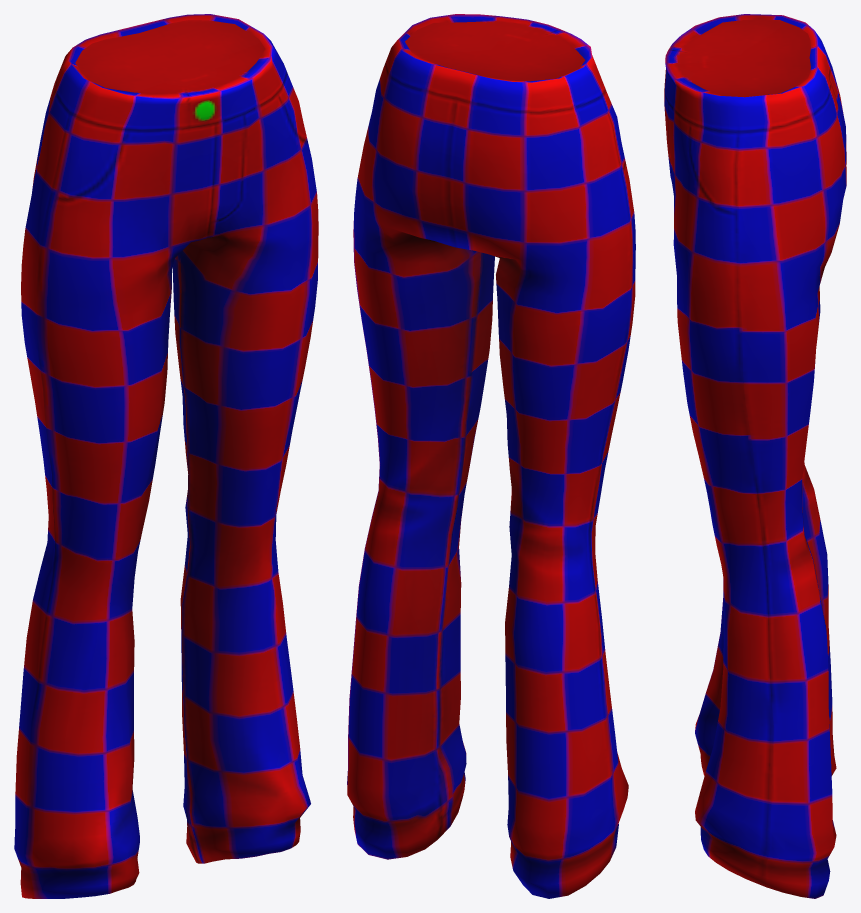
File: Bottom_CheckeredPants.obj
The picture shows the model from 3 angles, left to right: view 1: azimuth 30°, elevation 25°; view 2: azimuth 150°, elevation 25°; view 3: azimuth 270°, elevation 25°; orthographic projection. The views are drawn at different scales.
Parts seen in each view (by area): view 1: Bottom_CheckeredPants_0; view 2: Bottom_CheckeredPants_0; view 3: Bottom_CheckeredPants_0.
Boxes of the visible parts, x1,y1,x2,y2 form: Bottom_CheckeredPants_0: (14,14,318,898); Bottom_CheckeredPants_0: (347,14,635,898); Bottom_CheckeredPants_0: (664,14,846,898).
Bounding box in the file's own units: 0.3634 × 1.06 × 0.2201.
Materials: 1 (1 with a texture image).
